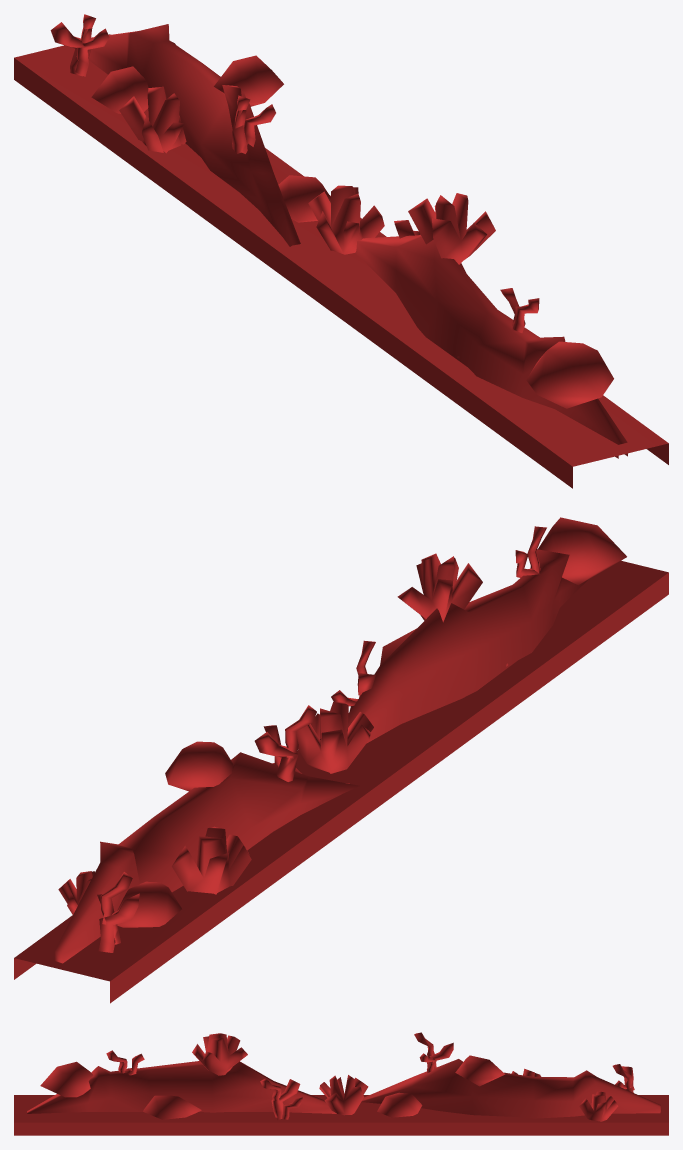
Rendered from hotl_aquarium.FBX.
3 renders of one model, top to bottom at view 1: azimuth 30°, elevation 25°; view 2: azimuth 150°, elevation 25°; view 3: azimuth 270°, elevation 25°, orthographic. The views are drawn at different scales.
Visible parts, largest first — view 1: aquarium; view 2: aquarium; view 3: aquarium.
Boxes of the visible parts, bbox=[...] form: aquarium: bbox=[14, 14, 668, 488]; aquarium: bbox=[14, 517, 668, 1003]; aquarium: bbox=[14, 1032, 668, 1135].
Bounding box in the file's own units: 0.8026 × 1.02 × 6.78.
